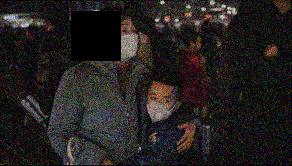with_mask: (108, 20, 139, 62), (144, 90, 177, 124)
without_mask: (193, 38, 203, 51)
